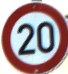20 km speed: (1, 1, 68, 73)
